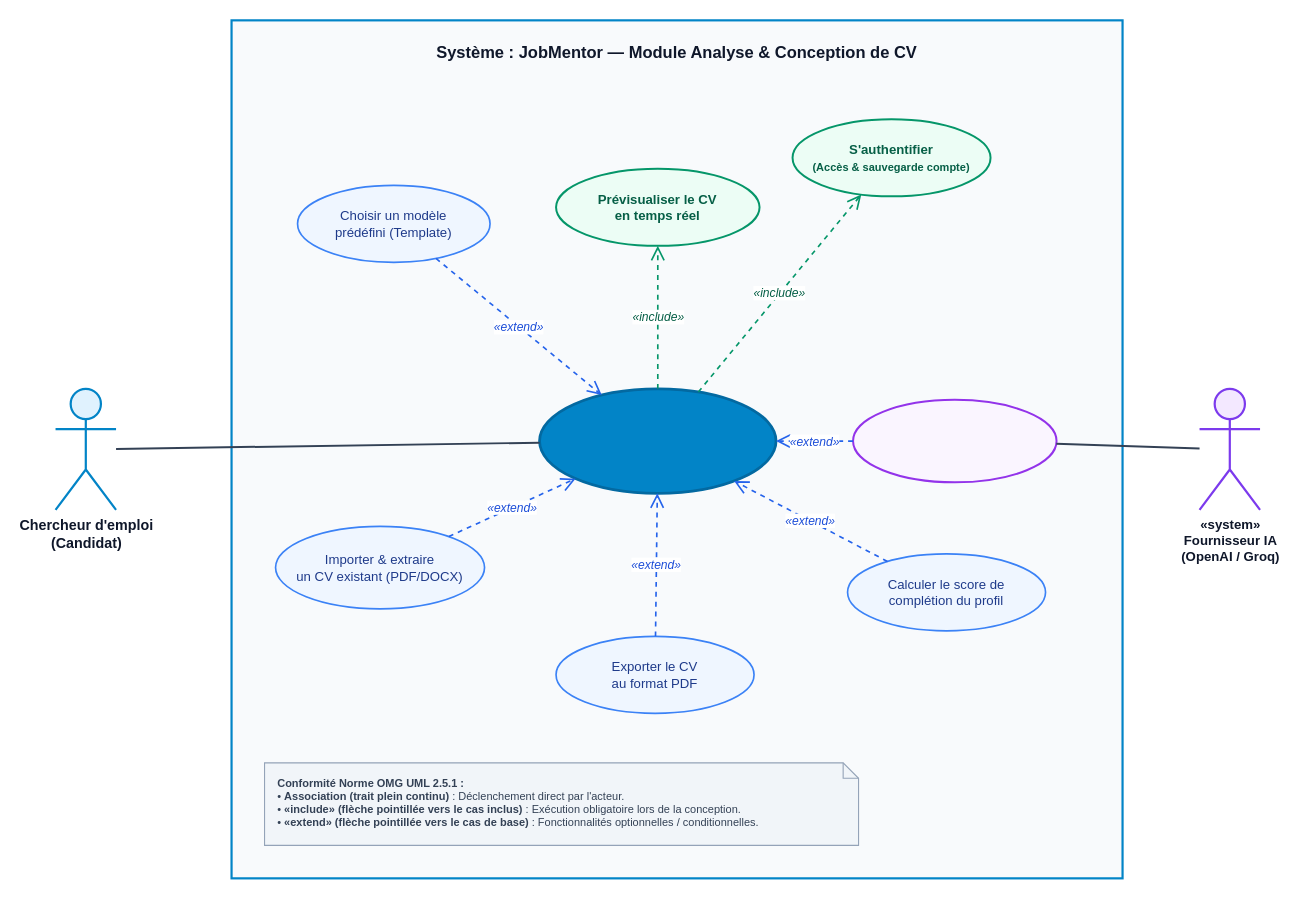
The diagram is 1298 pixels wide and 898 high, and some of its shapes have lost their labels. The shapes that lost their labels are listed below. From the top down, each one's centre as x and y in pixels, then its label:
the point at 657,440: Concevoir un CV personnalisé (CV Builder dynamique)
the point at 954,440: Adapter le CV à une offre avec l'IA
